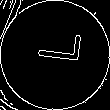L_W: (28, 36, 82, 74)
